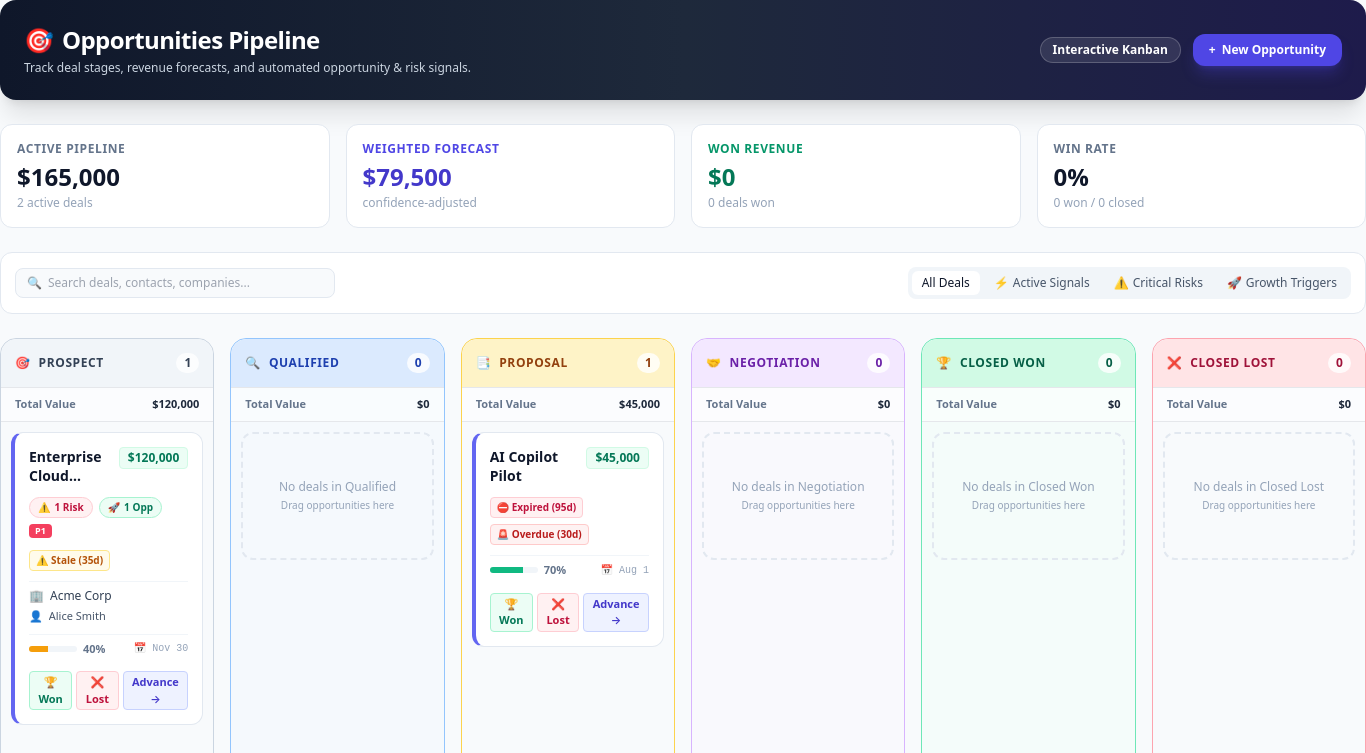
Test: OpportunitiesPage Kanban Board & Signal Integration › opens details drawer and loads history and attached items
The image size is (1366, 753).
// Click details
Click the heading "Enterprise Cloud Migration": (70, 466) [29,446,111,485]
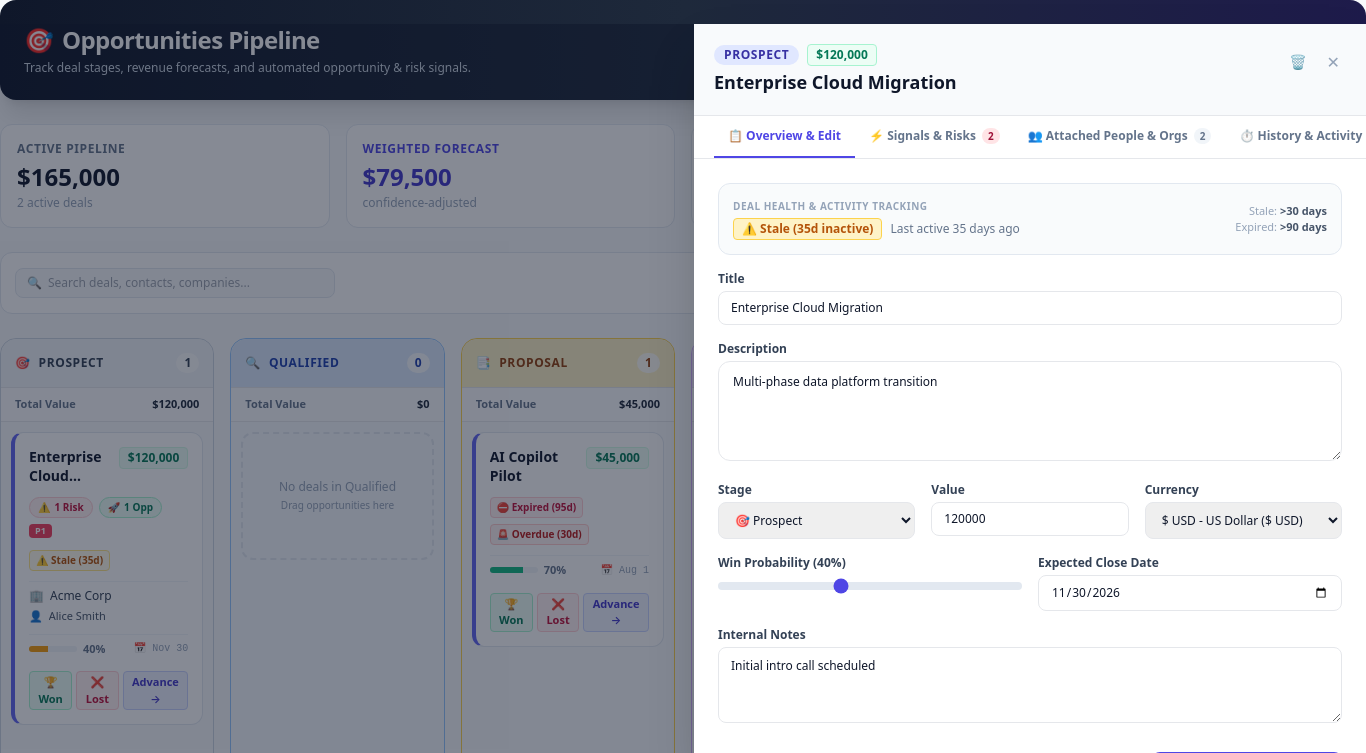
Expected: the button "📋 Overview & Edit" is shown, [714,116,855,158]
Expected: the text "👥 Attached People & Orgs" is shown, [1028,128,1188,144]
Expected: the text "⏱️ History & Activity" is shown
// Switch to history tab
Click the text "⏱️ History & Activity": (1301, 136) [1239,128,1362,144]
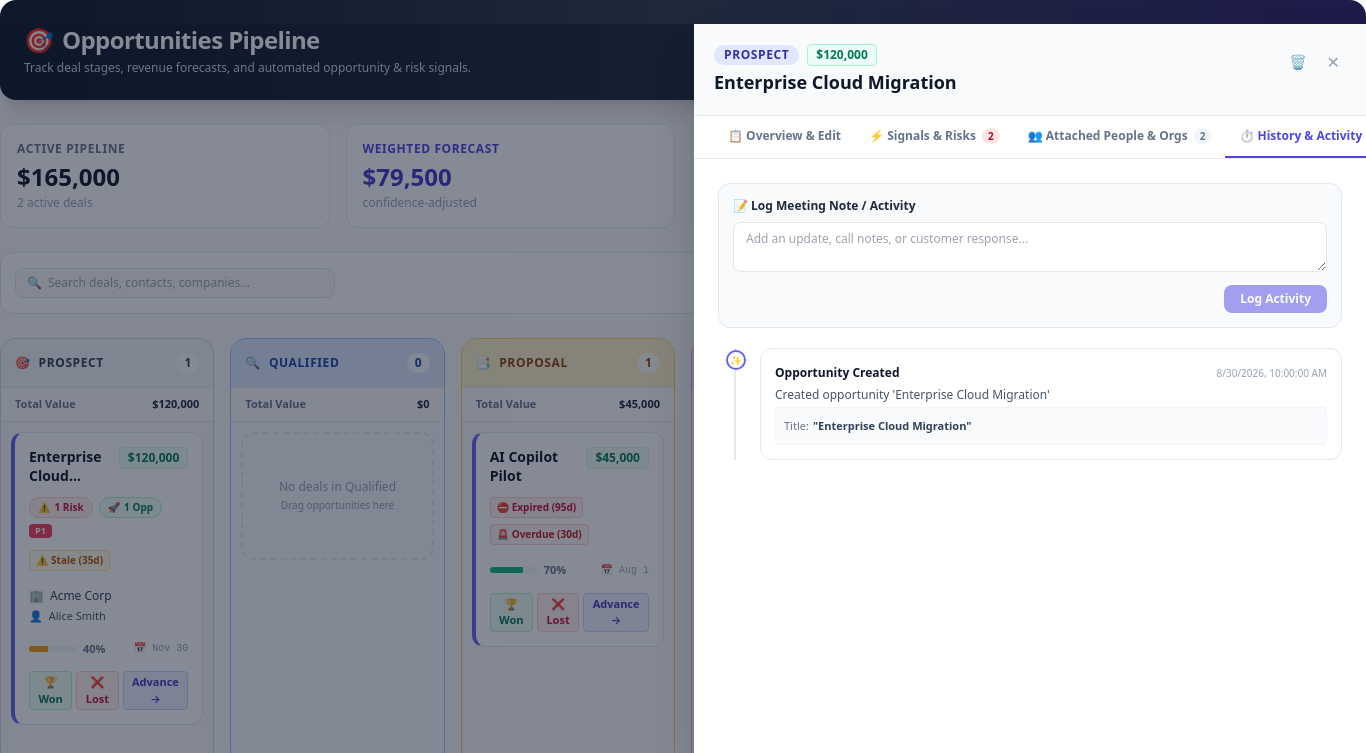
Expected: the text "Created opportunity 'Enterprise Cloud Migration'" is shown, [775,386,1050,403]
Expected: the text "📝 Log Meeting Note / Activity" is shown, [733,197,916,214]
// Switch to contacts tab
Click the text "👥 Attached People & Orgs": (1108, 136) [1028,128,1188,144]
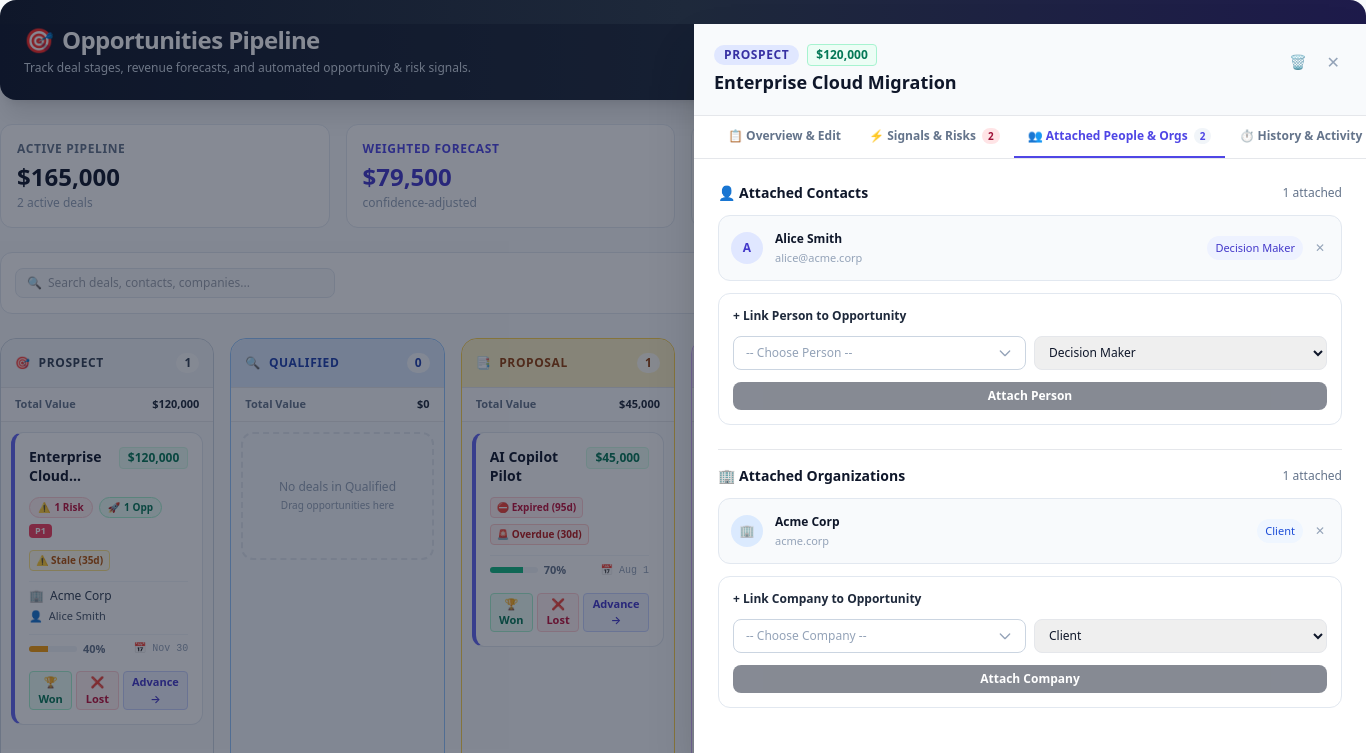
Expected: the text "+ Link Person to Opportunity" is shown, [733,307,906,324]
Expected: the text "+ Link Company to Opportunity" is shown, [733,590,922,607]
